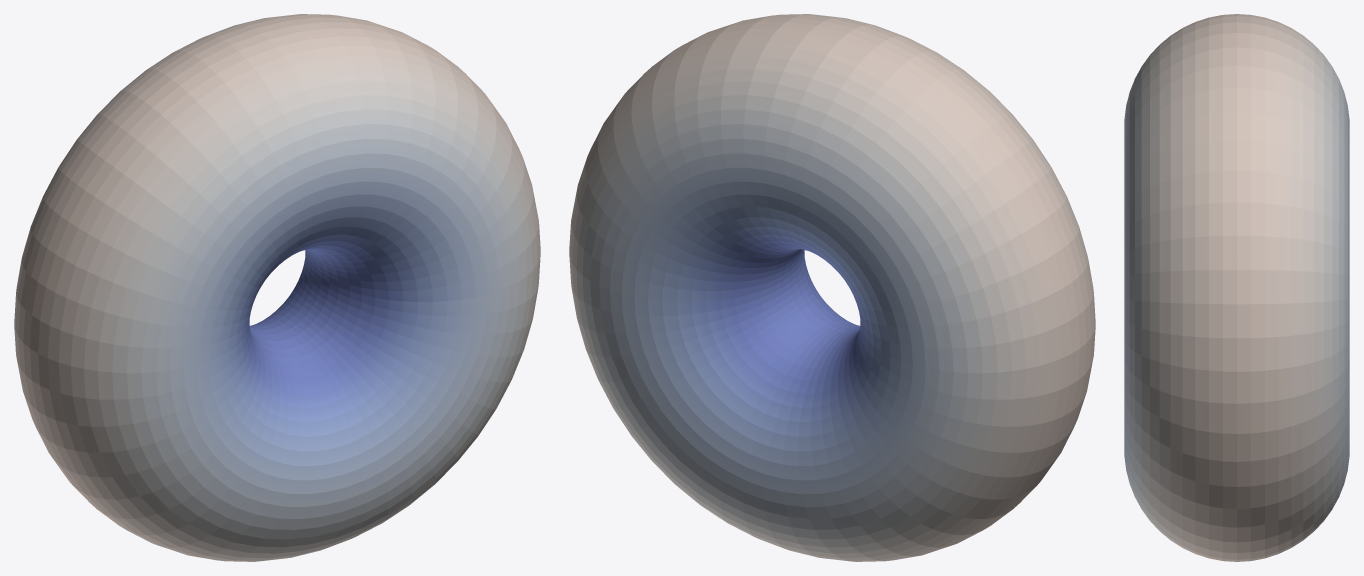
3 renders of one model, left to right at view 1: azimuth 30°, elevation 25°; view 2: azimuth 150°, elevation 25°; view 3: azimuth 270°, elevation 25°, orthographic. The views are drawn at different scales.
Visible parts, largest first — view 1: world; view 2: world; view 3: world.
Part boxes in pixels (x1,y1,x2,y2): world: (14, 14, 540, 561); world: (569, 14, 1095, 561); world: (1124, 14, 1349, 561).
Bounding box in the file's own units: 20.4 × 20.36 × 8.38.
